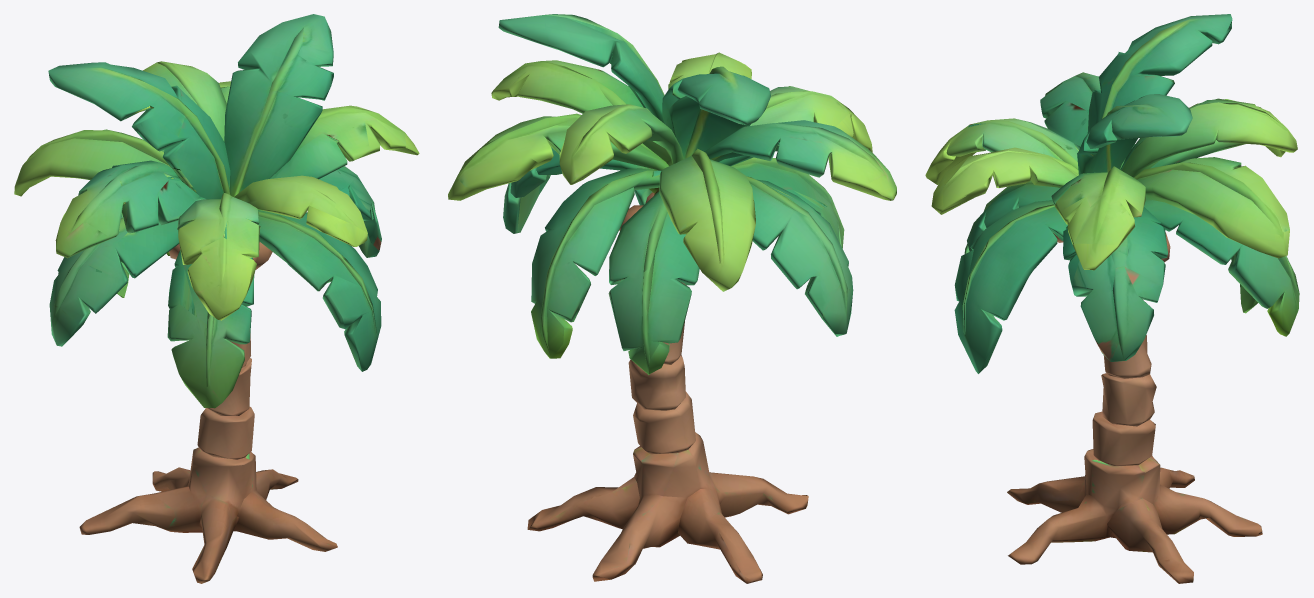
File: environment-palm.glb
The picture shows the model from 3 angles, left to right: view 1: azimuth 30°, elevation 25°; view 2: azimuth 150°, elevation 25°; view 3: azimuth 270°, elevation 25°; orthographic projection. The views are drawn at different scales.
Parts seen in each view (by area): view 1: model; view 2: model; view 3: model.
Part boxes in pixels (left/top/right/bottom): model: left=14, top=14, right=419, bottom=583; model: left=448, top=14, right=896, bottom=583; model: left=925, top=14, right=1299, bottom=583.
Size of the model in its own units: 1.57 by 1.9 by 1.36.
Materials: 1 (1 with a texture image).
